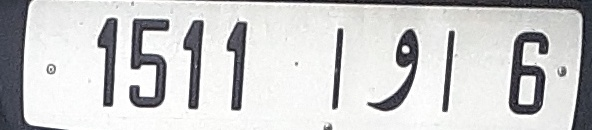1: (94, 14, 121, 109), (181, 17, 207, 111), (223, 19, 248, 111)
5: (128, 15, 170, 109)
6: (507, 28, 553, 118)
waw: (364, 26, 423, 114)
